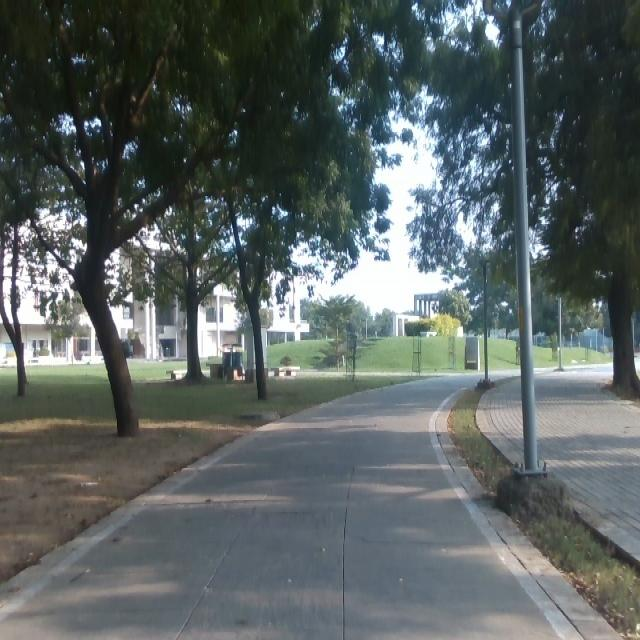lane: (0, 371, 561, 640)
